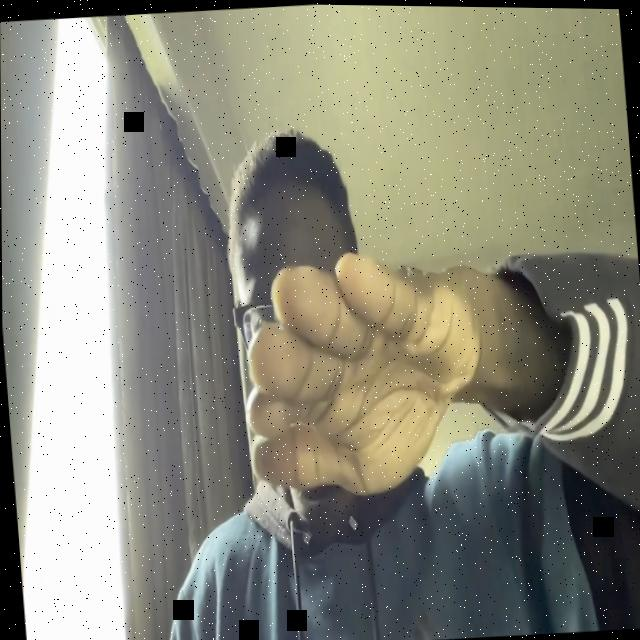Paper: (234, 238, 492, 504)
